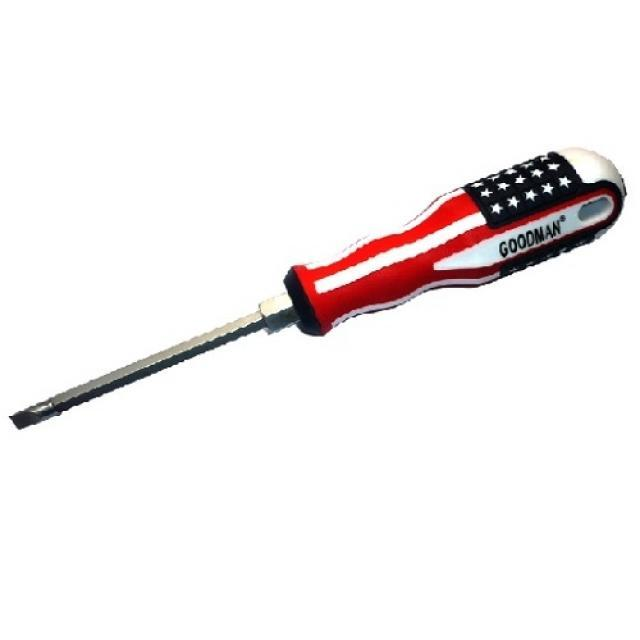screwdriver: (2, 138, 628, 430)
